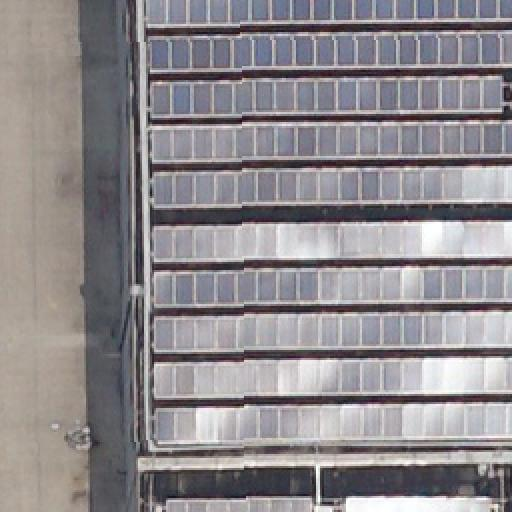solar-panel: (145, 0, 511, 448), (344, 492, 492, 512), (164, 496, 312, 512)
